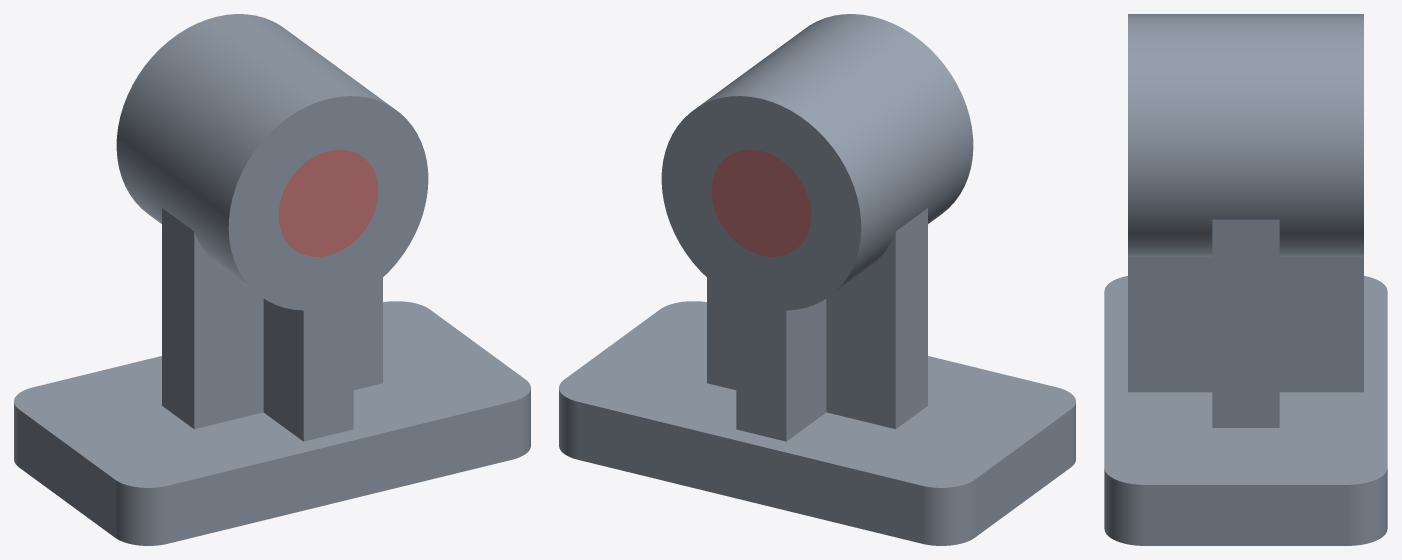
Rendered from step_06.glb.
3 views of the same model, side by side, from view 1: azimuth 30°, elevation 25°; view 2: azimuth 150°, elevation 25°; view 3: azimuth 270°, elevation 25° (orthographic). The views are drawn at different scales.
Visible parts, largest first — view 1: part__pedestal bearing, removed__pedestal bearing; view 2: part__pedestal bearing, removed__pedestal bearing; view 3: part__pedestal bearing.
Boxes of the visible parts, x1,y1,x2,y2 form: part__pedestal bearing: (14, 14, 530, 545); removed__pedestal bearing: (278, 149, 378, 256); part__pedestal bearing: (559, 14, 1075, 545); removed__pedestal bearing: (711, 149, 811, 256); part__pedestal bearing: (1104, 14, 1387, 545).
Size of the model in its own units: 74 by 68 by 42.
